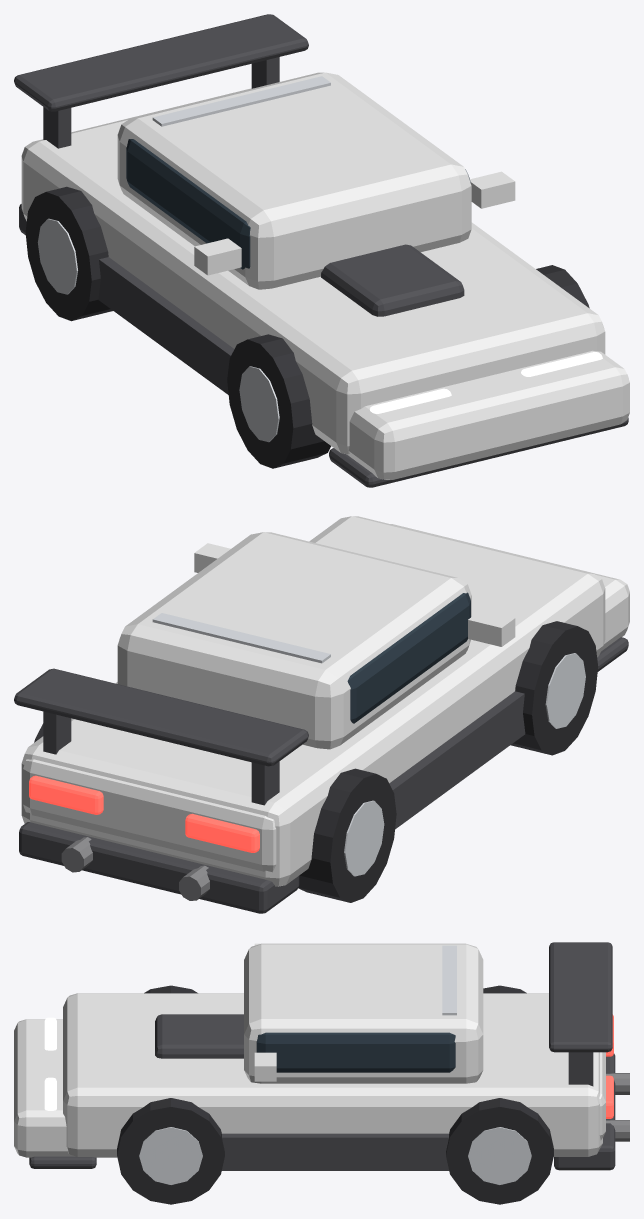
Rendered from car.glb.
The picture shows the model from 3 angles, top to bottom: view 1: azimuth 30°, elevation 25°; view 2: azimuth 150°, elevation 25°; view 3: azimuth 270°, elevation 25°; orthographic projection. The views are drawn at different scales.
Visible parts, largest first — view 1: body, cabin, nose, spoiler, wheel_fl, skirt-1, scoop, wheel_rl, glass, wheel_fl_hub, wheel_rl_hub, rollbar (+8 smaller); view 2: body, cabin, spoiler, deck, diffuser, wheel_rl, skirt-1, wheel_fl, glass, wheel_fl_hub, wheel_rl_hub, rollbar (+9 smaller); view 3: body, cabin, skirt1, glass, spoiler, wheel_rr, wheel_fr, nose, scoop, wheel_fr_hub, wheel_rr_hub, diffuser (+8 smaller).
Part boxes in pixels (<box>): body: <box>21,88,605,454</box>; cabin: <box>117,72,471,289</box>; nose: <box>347,350,629,479</box>; spoiler: <box>14,14,308,111</box>; wheel_fl: <box>227,334,330,468</box>; skirt-1: <box>98,257,234,394</box>; scoop: <box>321,244,464,316</box>; wheel_rl: <box>25,186,112,321</box>; glass: <box>126,139,470,269</box>; wheel_fl_hub: <box>239,366,279,442</box>; wheel_rl_hub: <box>37,218,77,294</box>; rollbar: <box>152,76,330,126</box>; body: <box>21,516,605,886</box>; cabin: <box>117,532,471,749</box>; spoiler: <box>14,668,308,766</box>; deck: <box>23,759,276,872</box>; diffuser: <box>19,822,299,913</box>; wheel_rl: <box>298,768,396,902</box>; skirt-1: <box>389,691,525,829</box>; wheel_fl: <box>510,621,598,755</box>; glass: <box>347,592,470,723</box>; wheel_fl_hub: <box>545,653,585,728</box>; wheel_rl_hub: <box>344,800,384,876</box>; rollbar: <box>152,613,330,663</box>; body: <box>63,993,602,1156</box>; cabin: <box>244,943,483,1083</box>; skirt1: <box>221,1133,449,1170</box>; glass: <box>256,1032,455,1072</box>; spoiler: <box>549,942,612,1052</box>; wheel_rr: <box>446,1098,553,1204</box>; wheel_fr: <box>117,1098,224,1204</box>; nose: <box>14,1019,117,1157</box>; scoop: <box>155,1014,243,1058</box>; wheel_fr_hub: <box>139,1127,202,1184</box>; wheel_rr_hub: <box>468,1127,531,1184</box>; diffuser: <box>554,1053,615,1170</box>.
Size of the model in its own units: 2.36 by 1.48 by 5.02.
